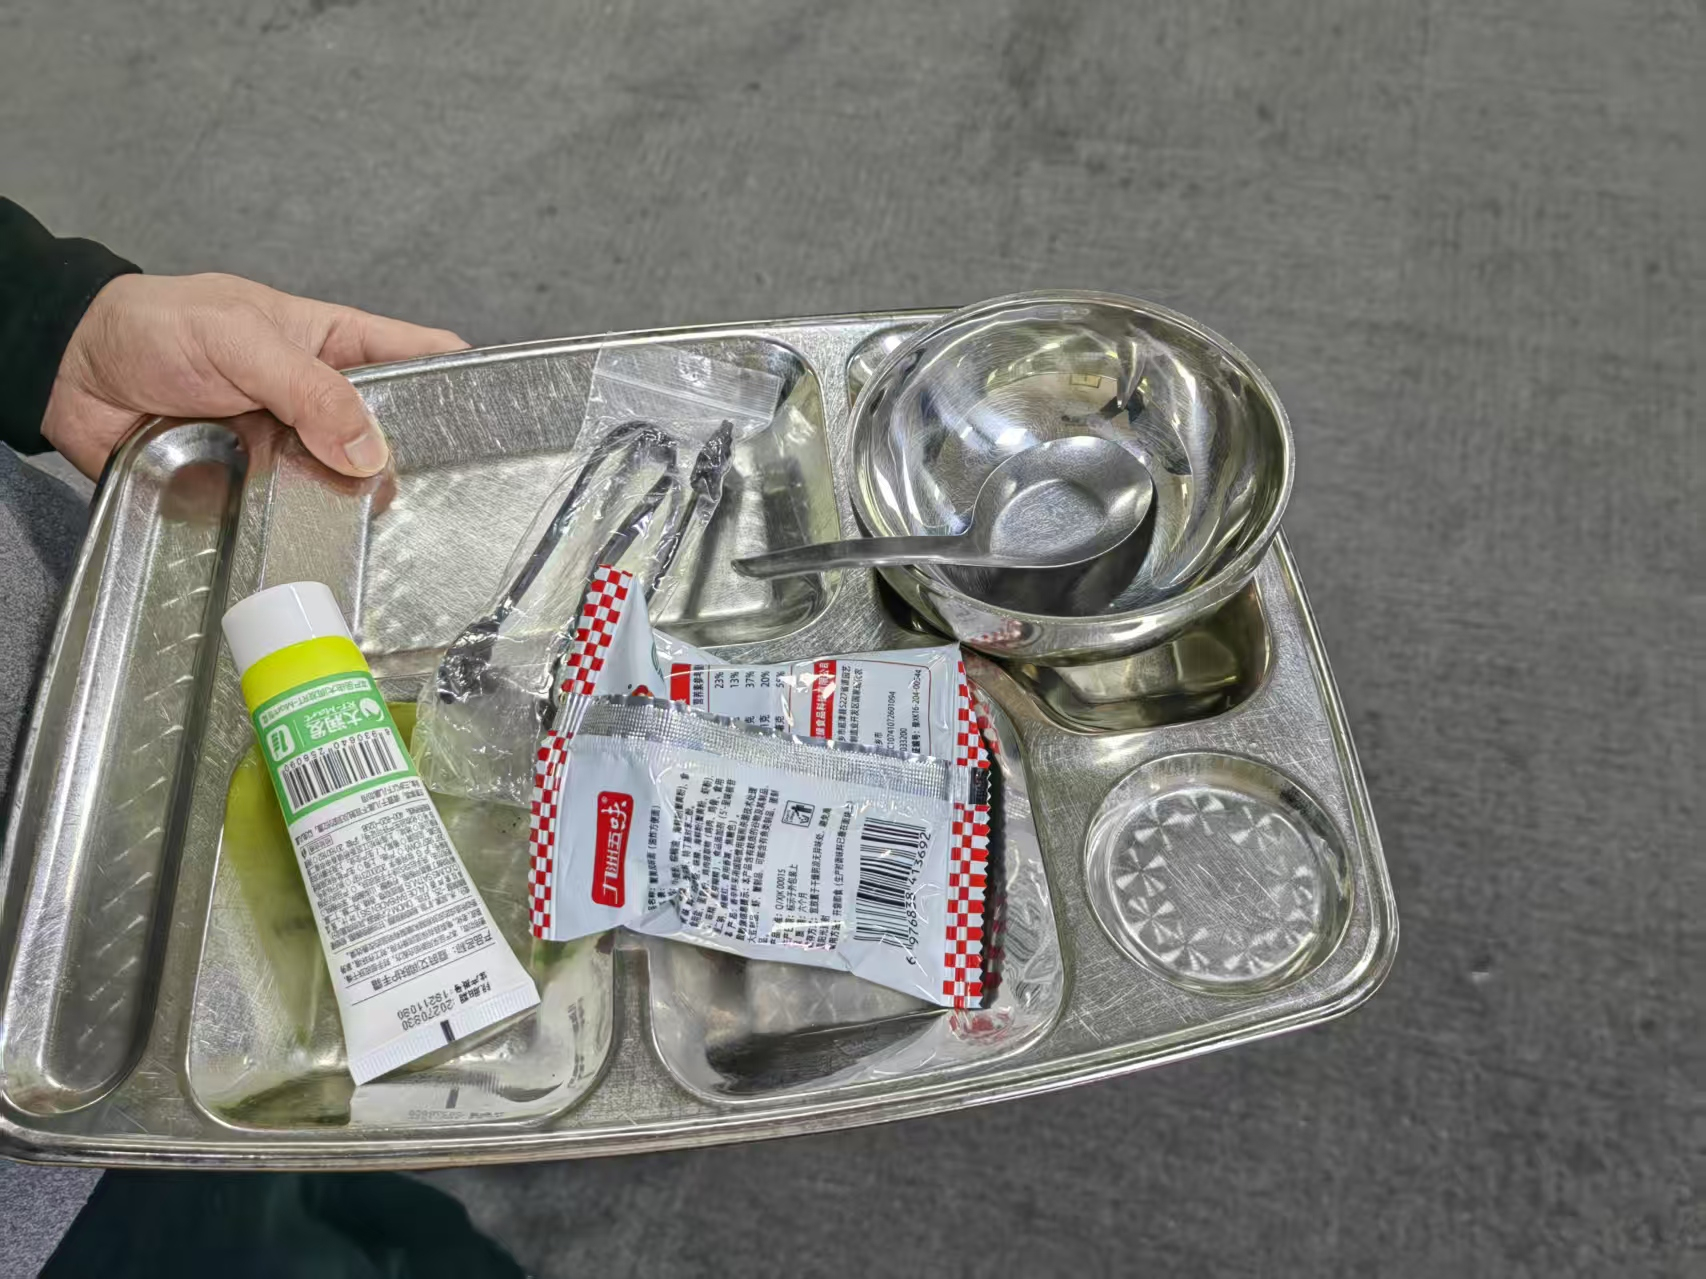moderate: (216, 335, 994, 1085)
plate: (5, 299, 1405, 1174)
